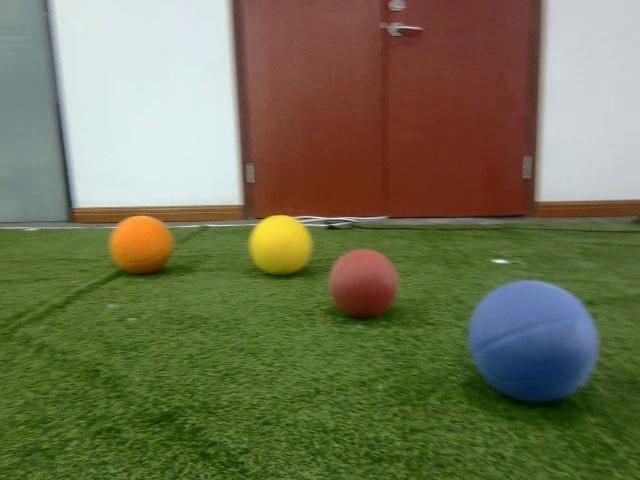blue_ball: (468, 280, 600, 407)
orange_ball: (107, 215, 175, 278)
red_ball: (328, 250, 399, 319)
yellow_ball: (248, 214, 312, 278)
